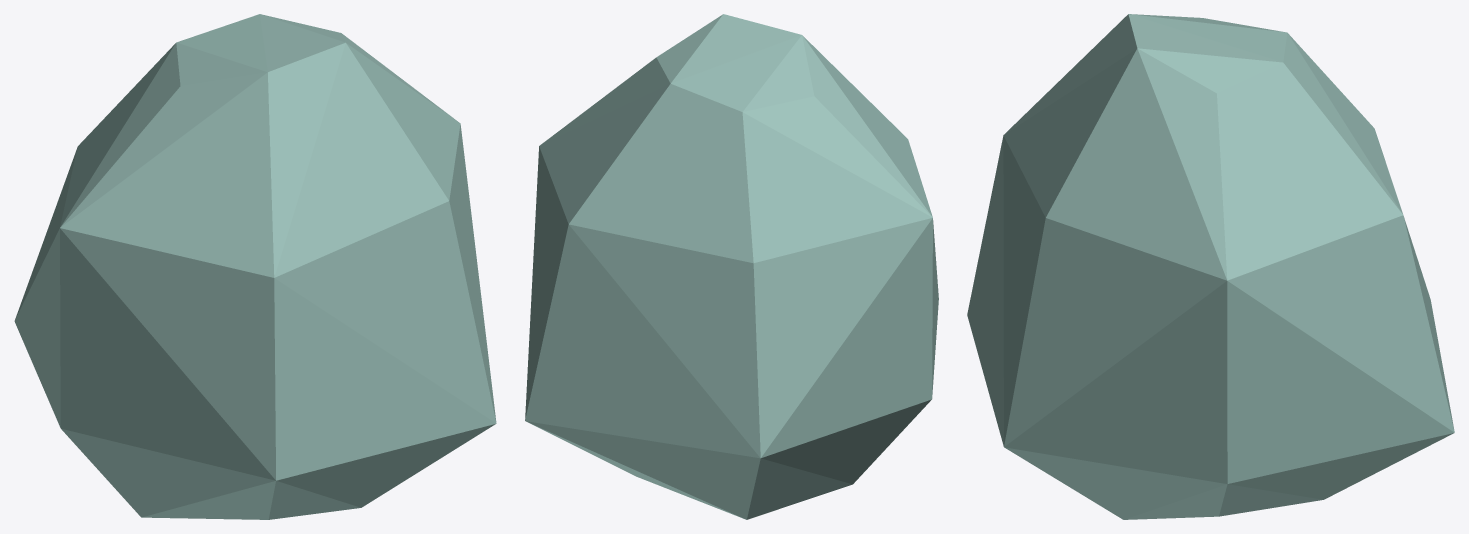
File: SM_MR_Crystal_Loose_06.fbx
3 views of the same model, side by side, from view 1: azimuth 30°, elevation 25°; view 2: azimuth 150°, elevation 25°; view 3: azimuth 270°, elevation 25° (orthographic). The views are drawn at different scales.
Parts seen in each view (by area): view 1: SM_MR_Crystal_Loose_06; view 2: SM_MR_Crystal_Loose_06; view 3: SM_MR_Crystal_Loose_06.
Part boxes in pixels (x1,y1,x2,y2): SM_MR_Crystal_Loose_06: [14, 14, 496, 519]; SM_MR_Crystal_Loose_06: [525, 14, 938, 519]; SM_MR_Crystal_Loose_06: [967, 14, 1454, 519].
Size of the model in its own units: 0.2429 by 0.2412 by 0.2562.
